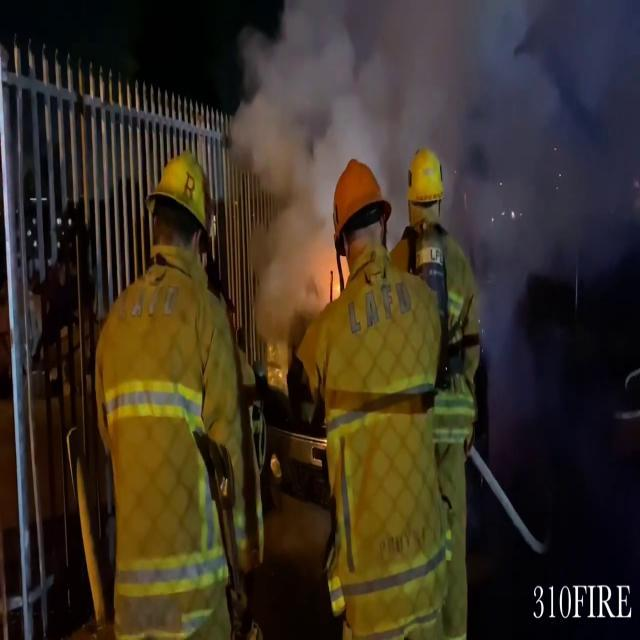Smoke: (234, 0, 639, 300), (390, 0, 640, 304)
